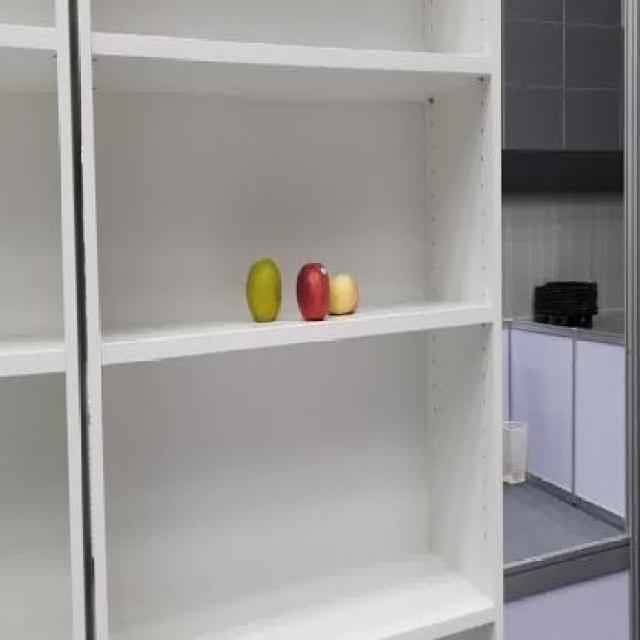Fresh Apple: (245, 260, 287, 320), (294, 268, 337, 322)
